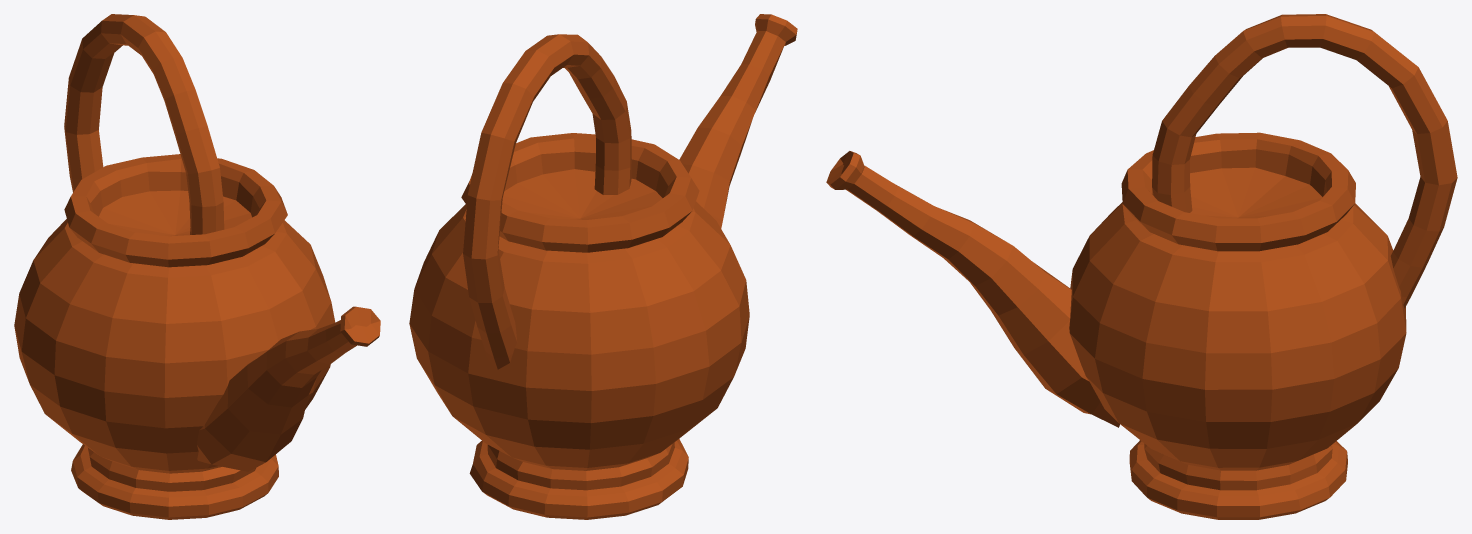
The picture shows the model from 3 angles, left to right: view 1: azimuth 30°, elevation 25°; view 2: azimuth 150°, elevation 25°; view 3: azimuth 270°, elevation 25°; orthographic projection. The views are drawn at different scales.
Visible parts, largest first — view 1: pot_body, handle, spout; view 2: pot_body, handle, spout; view 3: pot_body, handle, spout.
Part boxes in pixels (x1,y1,x2,y2): pot_body: (14, 154, 335, 519); handle: (64, 14, 224, 234); spout: (197, 306, 380, 471); pot_body: (409, 133, 749, 519); handle: (463, 34, 631, 369); spout: (679, 14, 797, 228); pot_body: (1069, 132, 1406, 519); handle: (1152, 14, 1457, 308); spout: (826, 151, 1119, 427).
Size of the model in its own units: 0.2431 by 0.3652 by 0.4524.
